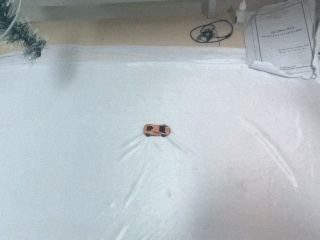toy_car: (143, 124, 171, 137)
